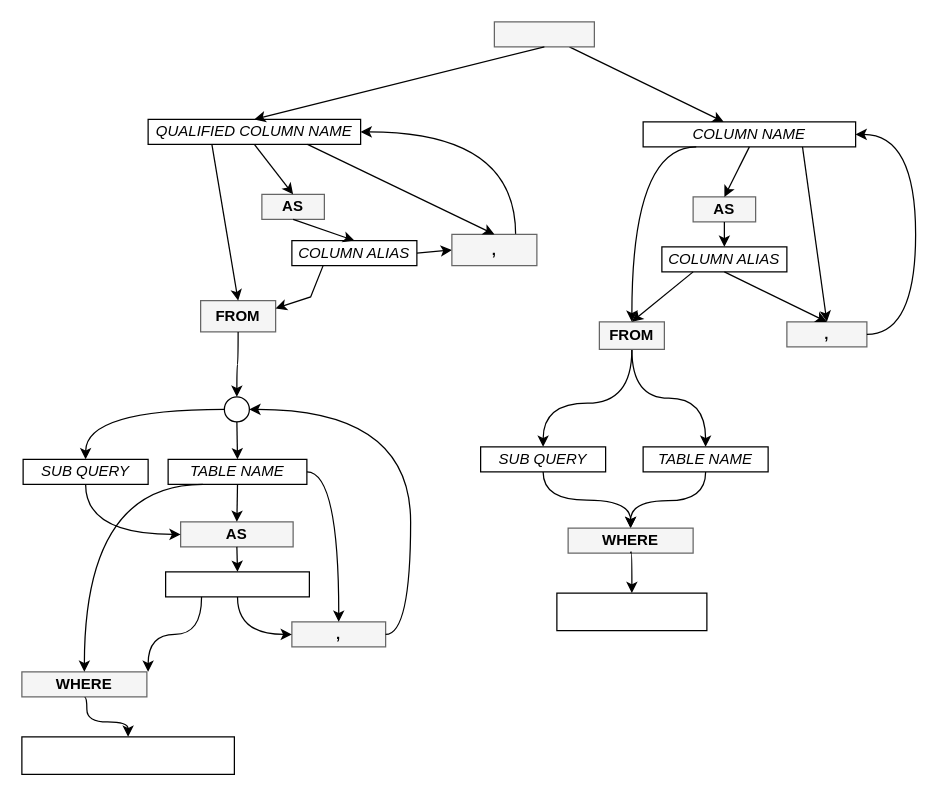
This 938x796 diagram has some shape labels left out. Each missing label, with the centre of its shape:
CONDITIONS: the point at 631,611
QUALIFIED CONDITIONS: the point at 127,755
SELECT: the point at 543,34
TABLE ALIAS: the point at 236,584
